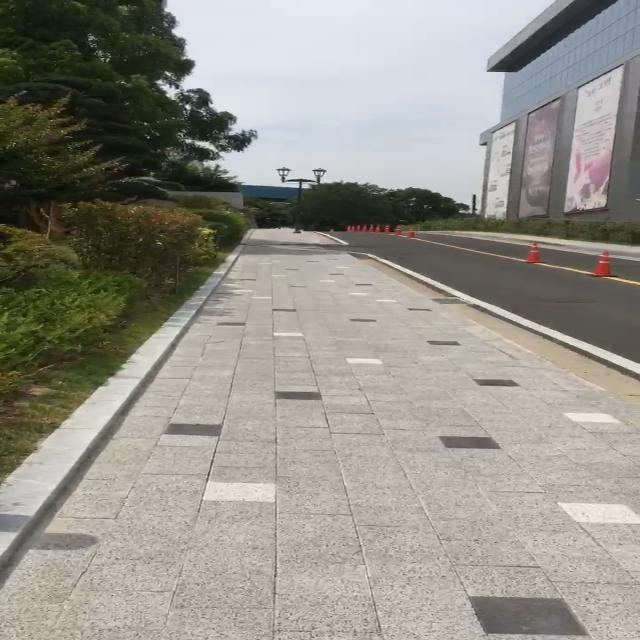obstacle: (585, 245, 621, 280), (513, 238, 547, 262)
road: (310, 232, 640, 405)
sidewalk: (0, 241, 640, 640), (424, 229, 640, 263), (241, 230, 336, 248)
